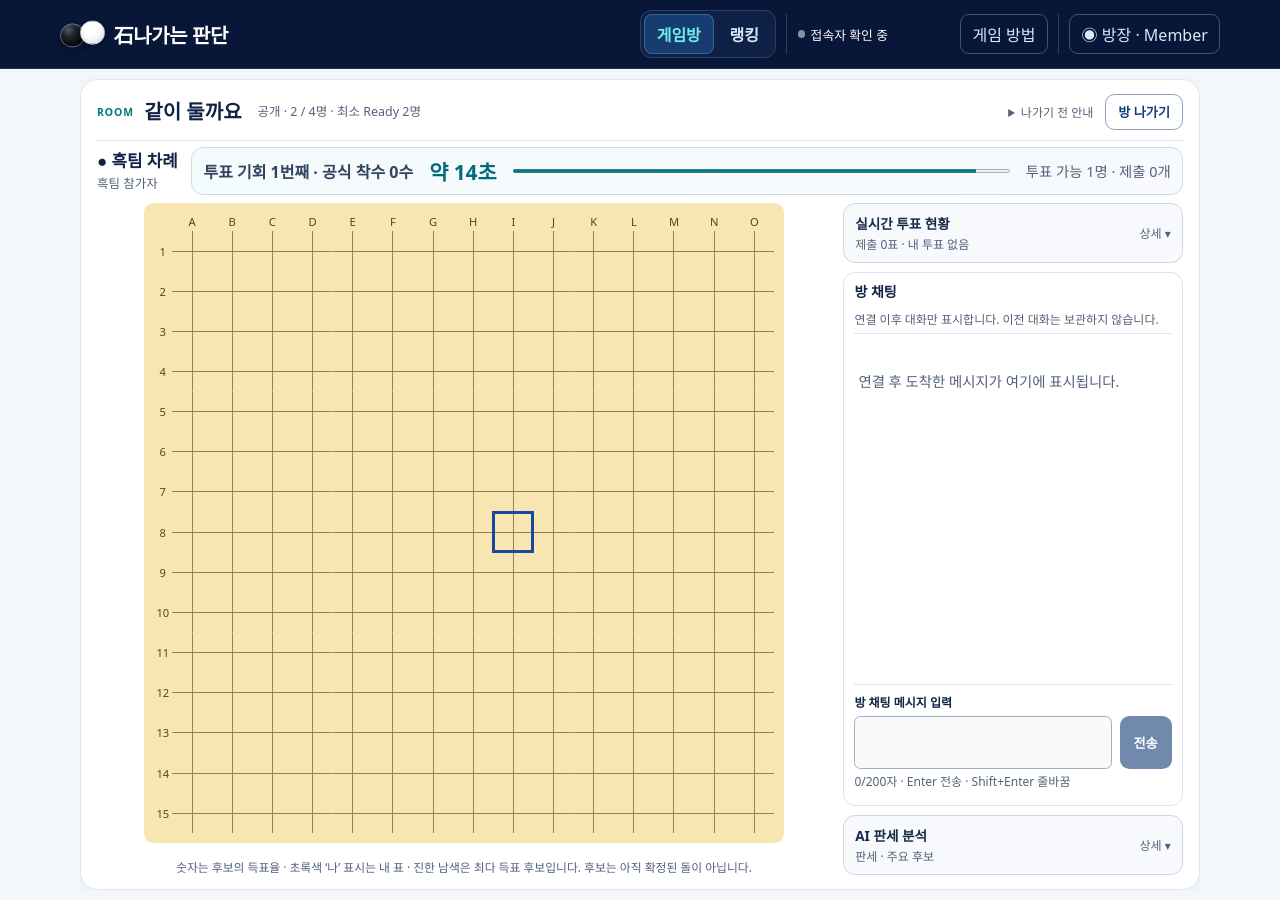
Test: game screen flow › does not restore an old board focus after unconfirmed changes
The image size is (1280, 900).
Click the button named "I8 빈 자리": (513, 532) x1=493 y1=512 x2=534 y2=552
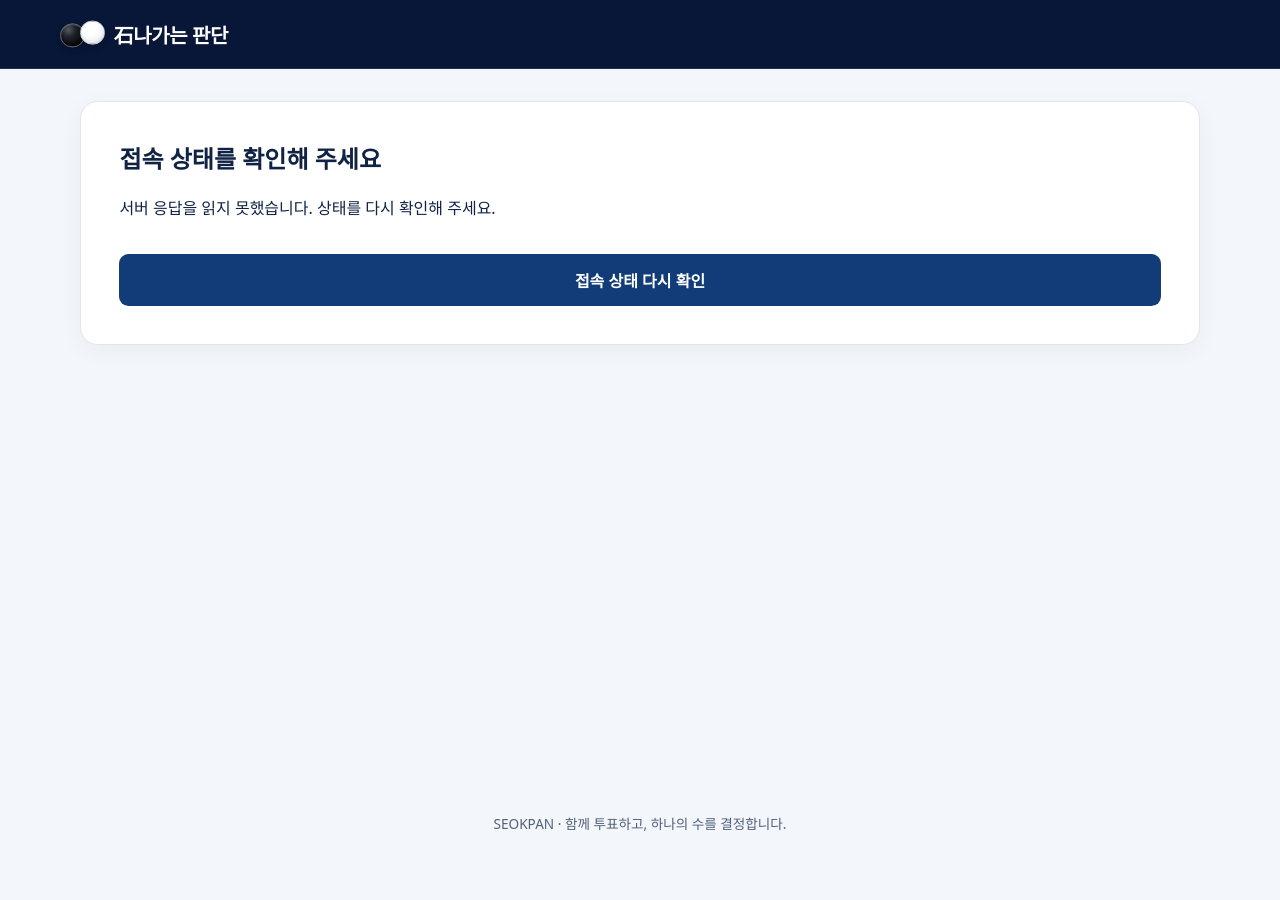
Expected: the heading "접속 상태를 확인해 주세요" is shown, x1=119 y1=142 x2=381 y2=175
